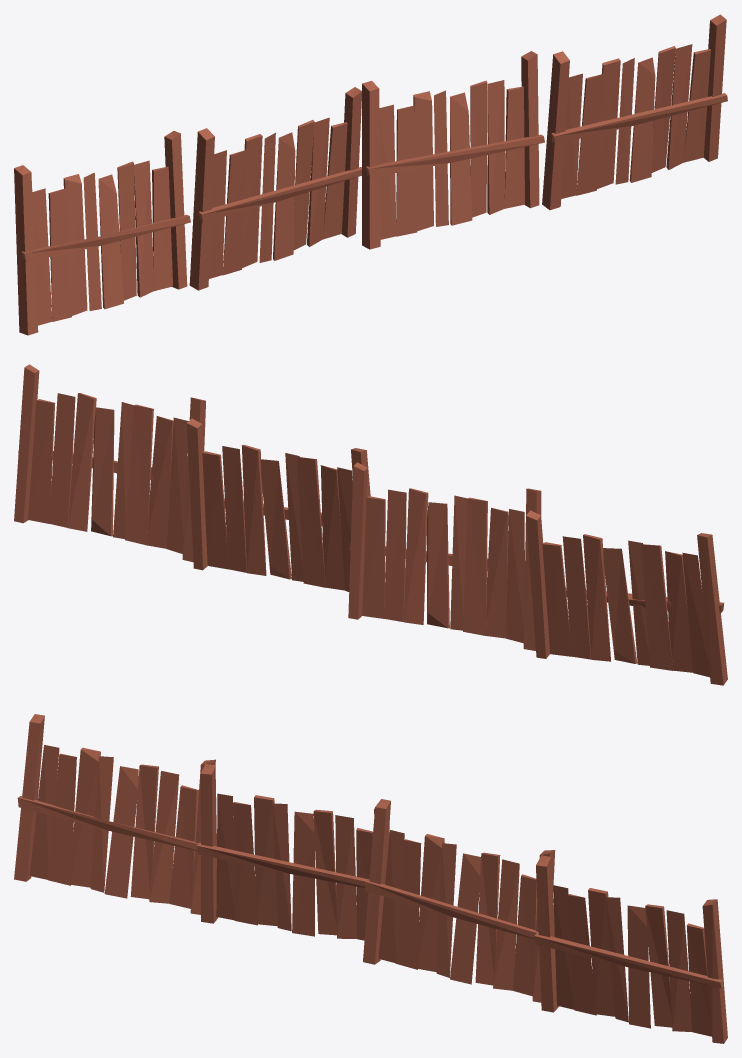
The model's file is prop_fence_02_quad.fbx.
3 views of the same model, one above another, from view 1: azimuth 30°, elevation 25°; view 2: azimuth 150°, elevation 25°; view 3: azimuth 330°, elevation 25° (orthographic).
Visible parts, largest first — view 1: prop_fences_03; view 2: prop_fences_03; view 3: prop_fences_03.
Boxes of the visible parts, x1,y1,x2,y2 form: prop_fences_03: (14, 14, 727, 335); prop_fences_03: (14, 364, 727, 685); prop_fences_03: (14, 714, 727, 1043).
Bounding box in the file's own units: 1101 × 238 × 95.88.
